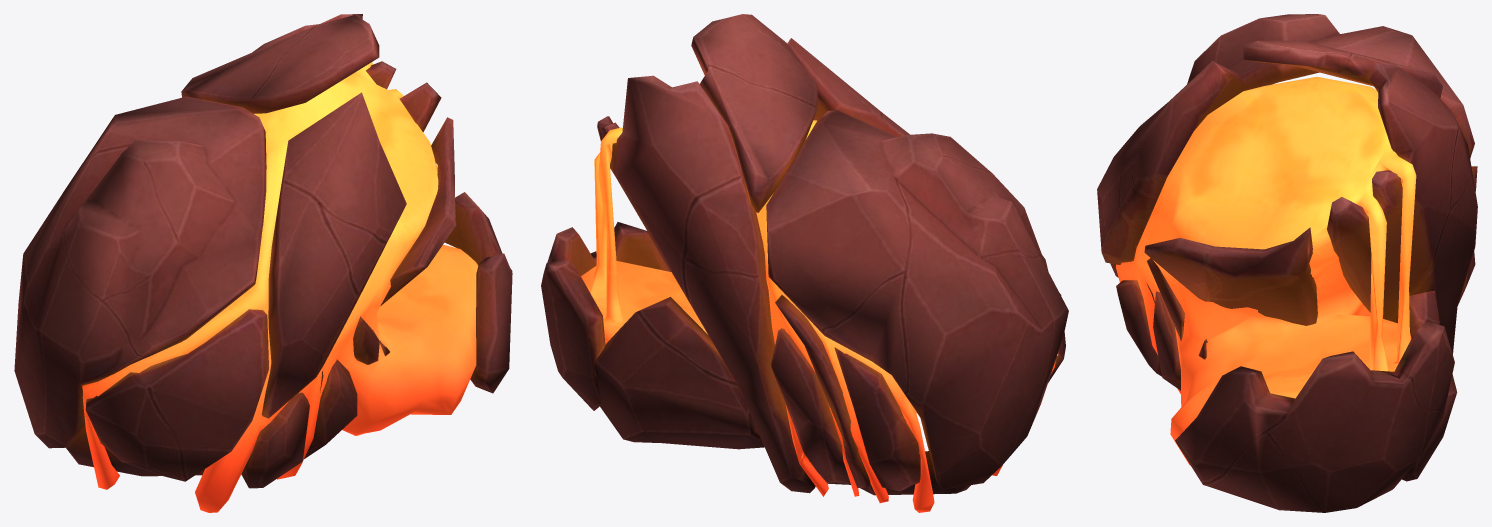
Rendered from molten_volcano_c_far.glb.
3 renders of one model, left to right at view 1: azimuth 30°, elevation 25°; view 2: azimuth 150°, elevation 25°; view 3: azimuth 270°, elevation 25°, orthographic. The views are drawn at different scales.
Visible parts, largest first — view 1: SM_MLTN_STL_Volcano_01C; view 2: SM_MLTN_STL_Volcano_01C; view 3: SM_MLTN_STL_Volcano_01C.
Part boxes in pixels (<box>): SM_MLTN_STL_Volcano_01C: <box>14,14,512,512</box>; SM_MLTN_STL_Volcano_01C: <box>541,14,1068,512</box>; SM_MLTN_STL_Volcano_01C: <box>1097,14,1477,512</box>.
Size of the model in its own units: 30.88 by 25.01 by 19.93.
Materials: 1 (1 with a texture image).
